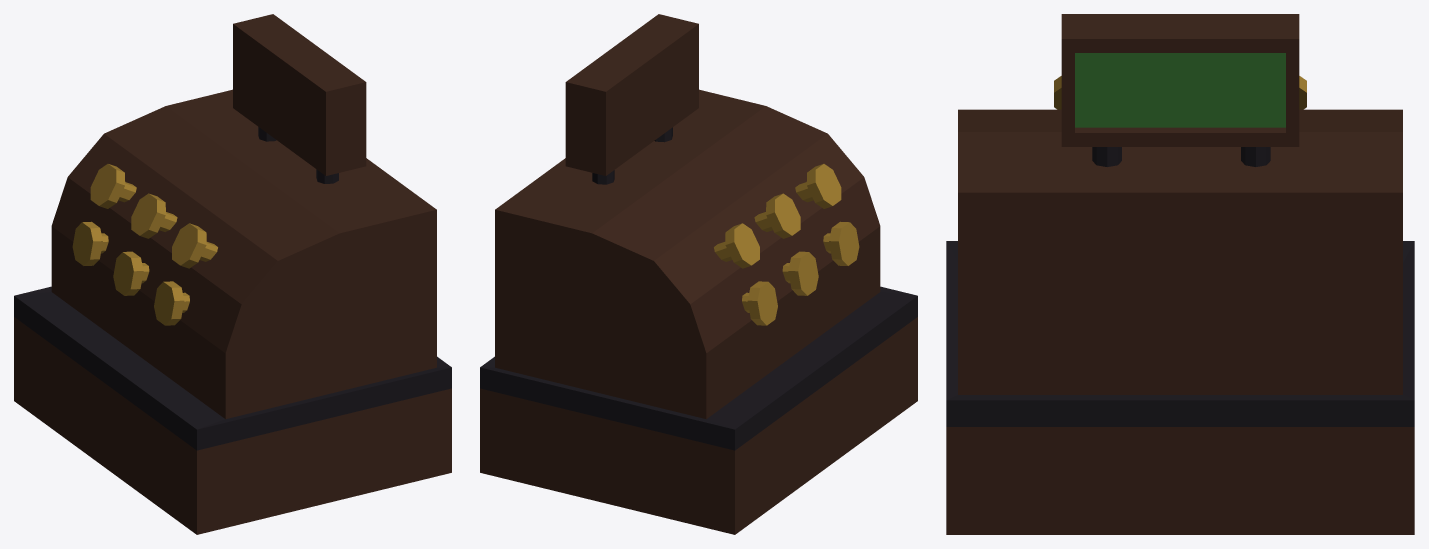
The model's file is register.glb.
3 renders of one model, left to right at view 1: azimuth 30°, elevation 25°; view 2: azimuth 150°, elevation 25°; view 3: azimuth 270°, elevation 25°, orthographic. The views are drawn at different scales.
Visible parts, largest first — view 1: register, Register_display, register_button.004, register_button.003, register_button.005, register_button.002, register_button, register_button.001; view 2: register, Register_display, register_button.004, register_button.005, register_button.003, register_button, register_button.001, register_button.002; view 3: register, Register_display, register_support2, register_support.
Part boxes in pixels (x1,y1,x2,y2): register: [14, 89, 451, 534]; Register_display: [233, 14, 366, 175]; register_button.004: [131, 193, 177, 238]; register_button.003: [90, 164, 136, 208]; register_button.005: [172, 223, 217, 268]; register_button.002: [154, 281, 189, 325]; register_button: [72, 221, 108, 265]; register_button.001: [113, 251, 149, 295]; register: [480, 89, 917, 534]; Register_display: [565, 14, 698, 175]; register_button.004: [754, 193, 800, 238]; register_button.005: [795, 164, 841, 208]; register_button.003: [714, 223, 759, 268]; register_button: [742, 281, 777, 325]; register_button.001: [782, 251, 818, 295]; register_button.002: [823, 221, 859, 265]; register: [946, 109, 1414, 534]; Register_display: [1061, 14, 1299, 146]; register_support2: [1241, 147, 1270, 166]; register_support: [1092, 147, 1121, 166].
Bounding box in the file's own units: 2.53 × 3.49 × 3.15.
